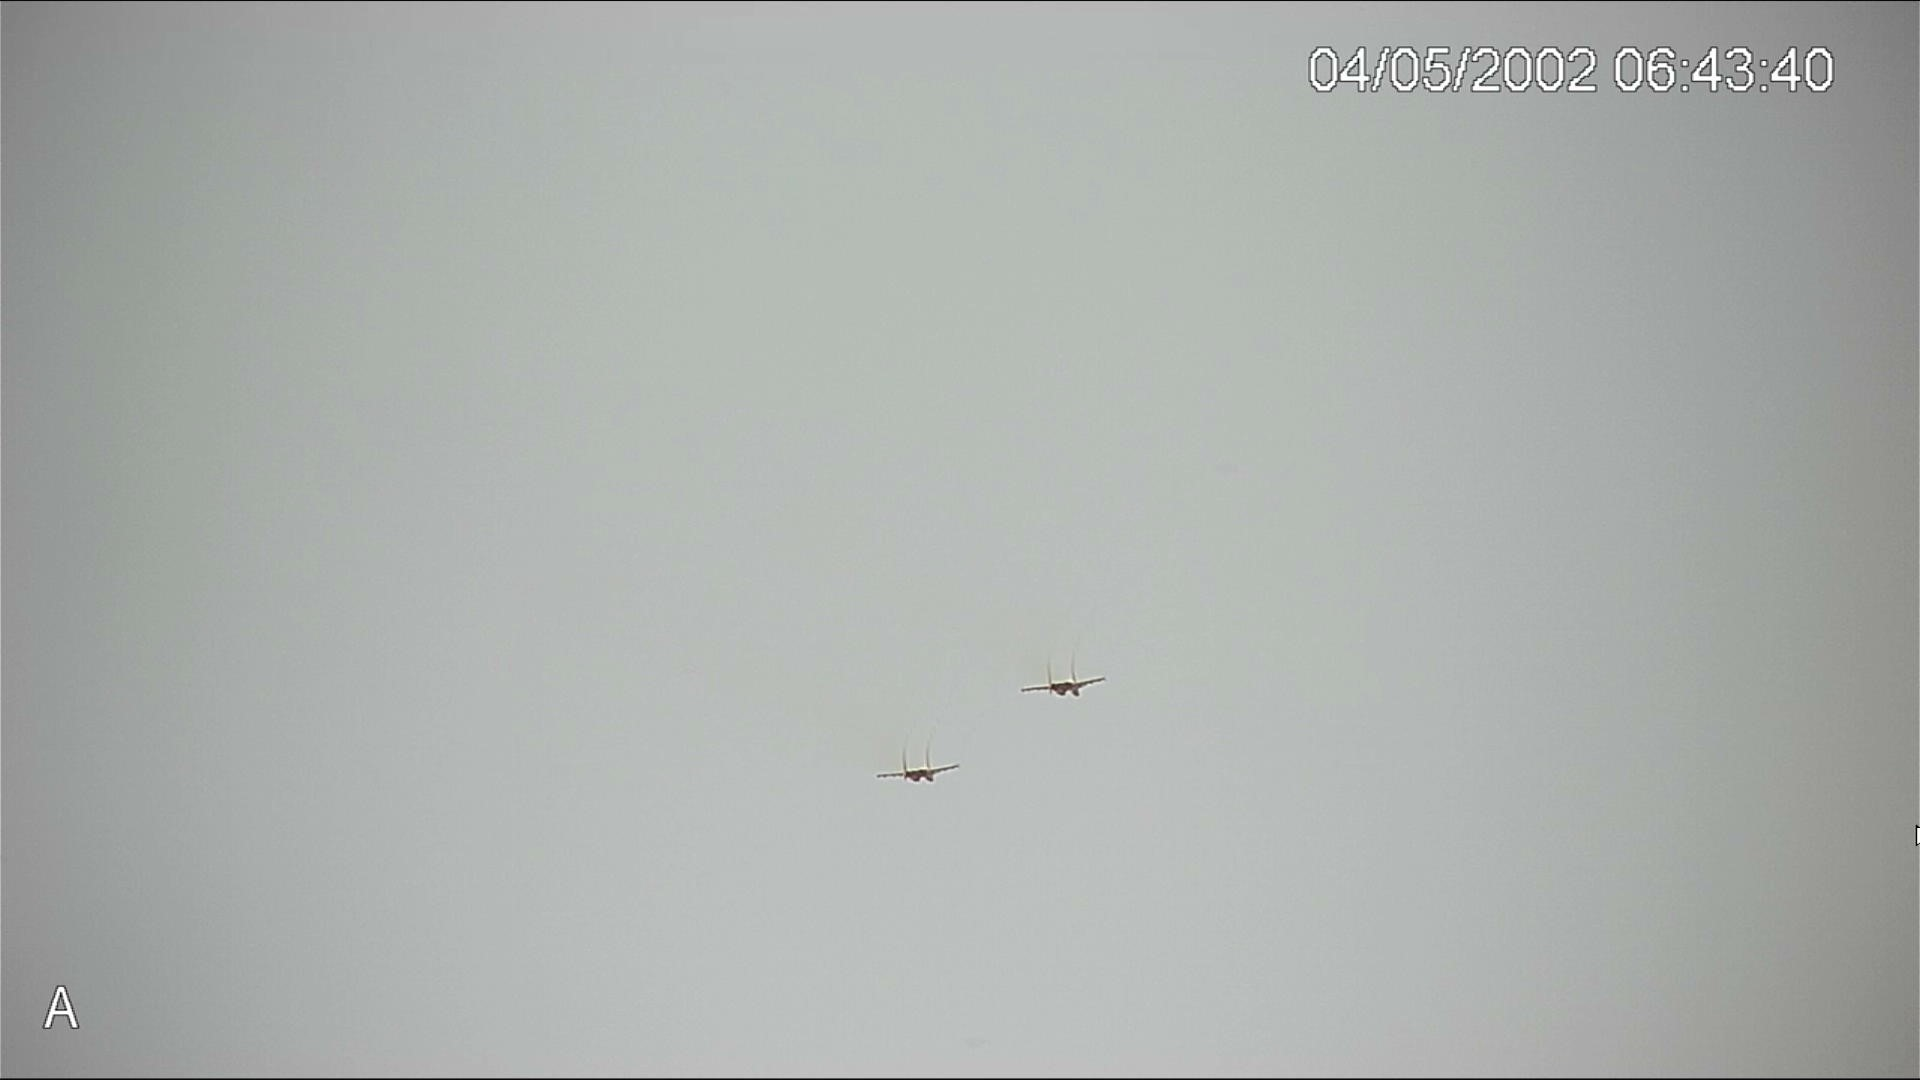SU_30: (873, 752, 978, 785), (1025, 665, 1112, 696)
